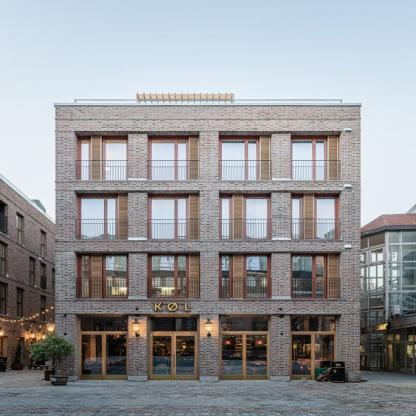Balcony: (74, 100, 343, 119)
Building Outline: (52, 92, 363, 382)
Deco: (154, 302, 191, 312)
Door: (221, 331, 268, 379), (150, 331, 197, 379), (81, 331, 128, 379), (291, 331, 336, 380)
Facade: (53, 92, 363, 382)
Floor Slab: (55, 299, 360, 314), (55, 241, 361, 252), (56, 120, 360, 130), (55, 181, 360, 190)
Window: (75, 131, 128, 181), (218, 131, 271, 181), (76, 191, 129, 240), (148, 131, 199, 181), (148, 191, 200, 240), (219, 191, 271, 240), (292, 131, 342, 181), (76, 252, 129, 299), (148, 252, 200, 299), (219, 252, 271, 299), (292, 191, 341, 240), (292, 252, 342, 299), (78, 195, 104, 239), (149, 254, 175, 298), (220, 136, 246, 180), (149, 136, 175, 180), (149, 195, 175, 239), (103, 136, 127, 180), (103, 254, 127, 298), (316, 195, 339, 239), (245, 195, 268, 239), (245, 254, 268, 298), (292, 136, 314, 180), (292, 254, 314, 298), (81, 317, 128, 331), (150, 317, 197, 331), (221, 317, 268, 331), (291, 317, 336, 331), (80, 256, 89, 298), (316, 256, 325, 298), (221, 256, 230, 298), (316, 139, 325, 180), (107, 198, 116, 239), (178, 257, 187, 298), (292, 198, 301, 239), (248, 139, 257, 180), (178, 139, 187, 180), (81, 139, 90, 180), (221, 198, 230, 239), (178, 198, 187, 239)
